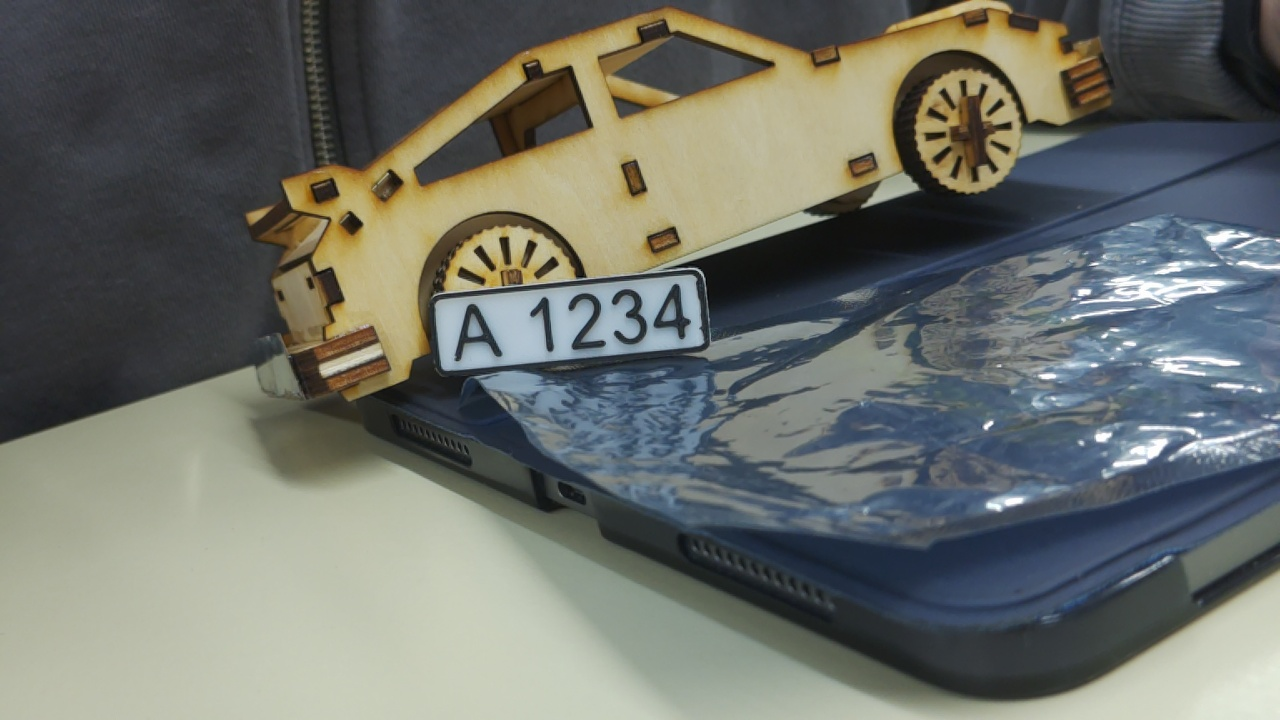license_plate: (413, 267, 725, 383)
